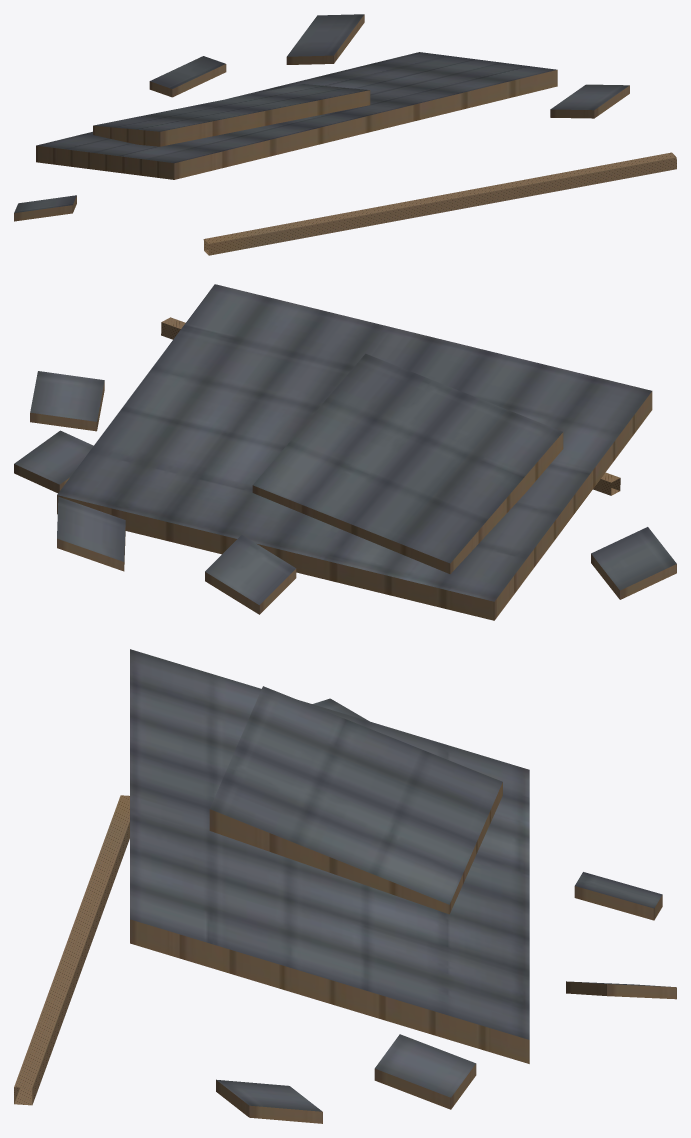
The model's file is debris_tokyo_roof_tiles.glb.
3 views of the same model, one above another, from view 1: azimuth 30°, elevation 25°; view 2: azimuth 150°, elevation 25°; view 3: azimuth 270°, elevation 25° (orthographic). The views are drawn at different scales.
Parts seen in each view (by area): view 1: debris_tokyo_roof_tiles; view 2: debris_tokyo_roof_tiles; view 3: debris_tokyo_roof_tiles.
Boxes of the visible parts, x1=… form: debris_tokyo_roof_tiles: x1=14, y1=14, x2=676, y2=255; debris_tokyo_roof_tiles: x1=14, y1=284, x2=676, y2=620; debris_tokyo_roof_tiles: x1=14, y1=649, x2=676, y2=1123.
Bounding box in the file's own units: 3.68 × 0.5999 × 2.49.
1 material, 1 textured.
